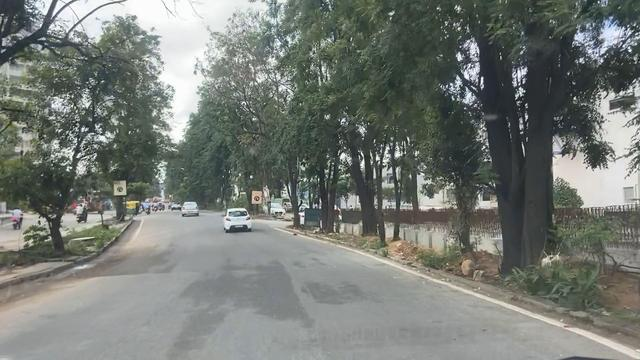LMV: (224, 209, 253, 231), (182, 202, 200, 216)
RoadDamages: (263, 301, 315, 333), (339, 273, 385, 307), (187, 282, 218, 312), (123, 251, 157, 278), (174, 329, 221, 348), (224, 289, 255, 317), (265, 273, 297, 298), (159, 240, 183, 267), (301, 275, 329, 298), (231, 265, 261, 284), (94, 263, 113, 287), (263, 254, 283, 273), (292, 256, 313, 266)
